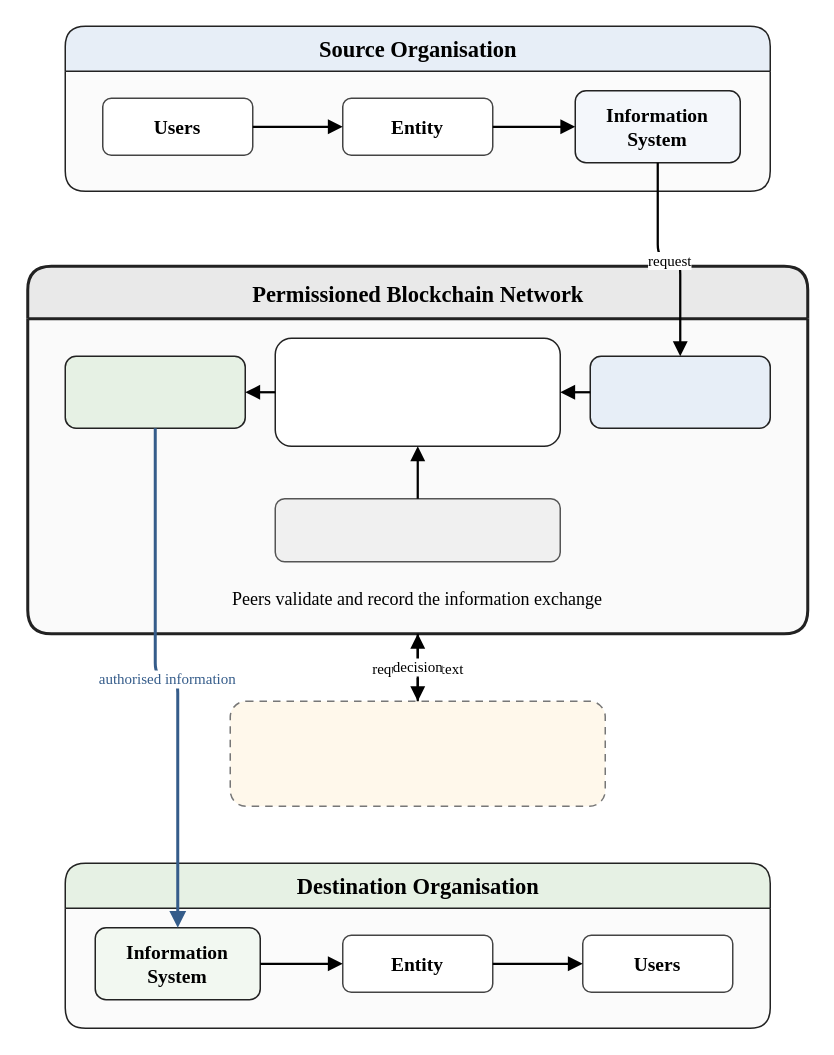
This 834x1055 diagram has some shape labels left out. Each missing label, with the centre of its shape:
Destination Peer: the point at 154,391
Information-Exchange Logic and Shared Ledger: the point at 417,391
LLM Decision Service decision and explanation: the point at 417,753
Other Organisation Peers endorsement and validation: the point at 417,529
Source Peer: the point at 679,391
